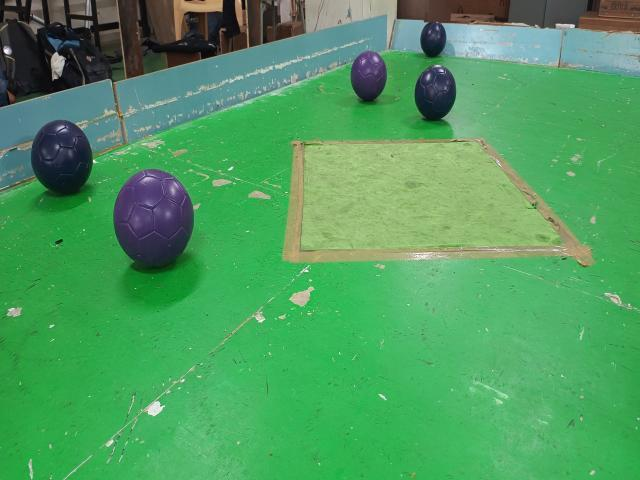jambhalya: (114, 170, 194, 267), (350, 52, 386, 102)
kaalyya: (30, 120, 92, 195), (415, 65, 456, 120), (420, 22, 446, 57)
